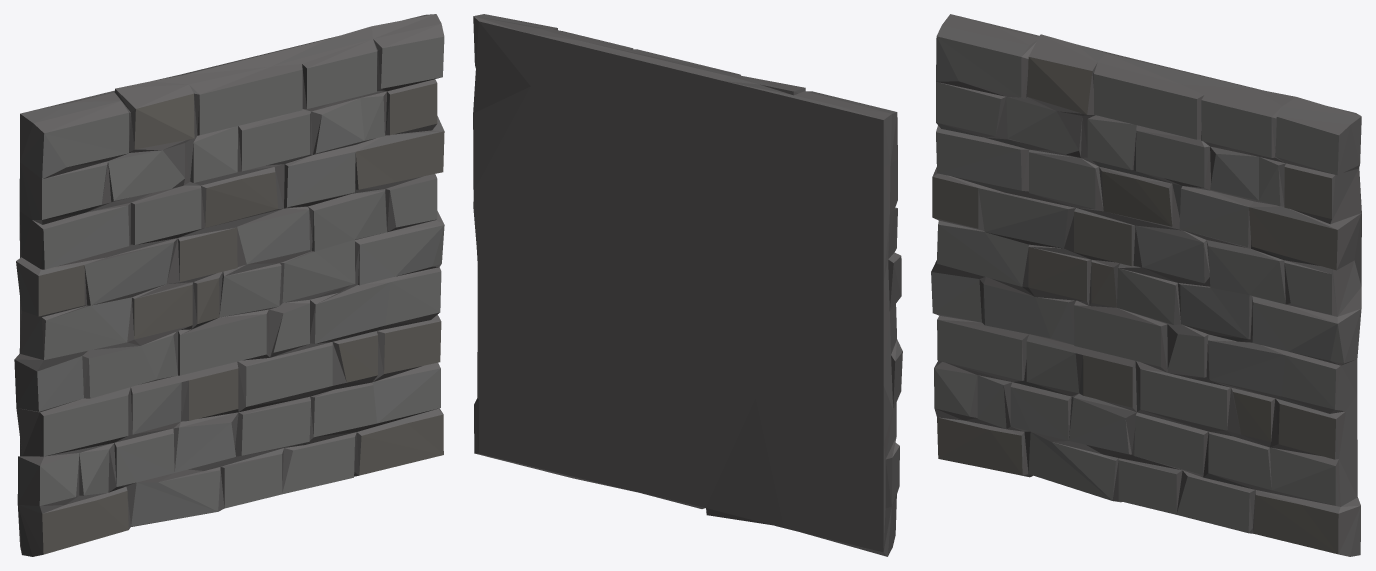
File: SM_Env_Wall_01_Alt.FBX
The picture shows the model from 3 angles, left to right: view 1: azimuth 30°, elevation 25°; view 2: azimuth 150°, elevation 25°; view 3: azimuth 330°, elevation 25°; orthographic projection.
Parts seen in each view (by area): view 1: SM_Env_Wall_01_Alt; view 2: SM_Env_Wall_01_Alt; view 3: SM_Env_Wall_01_Alt.
Part boxes in pixels (bbox=[...]): SM_Env_Wall_01_Alt: bbox=[14, 14, 444, 556]; SM_Env_Wall_01_Alt: bbox=[473, 14, 902, 556]; SM_Env_Wall_01_Alt: bbox=[931, 14, 1361, 556].
Size of what is drawn, in the model's own units: 527 by 41.85 by 530.
